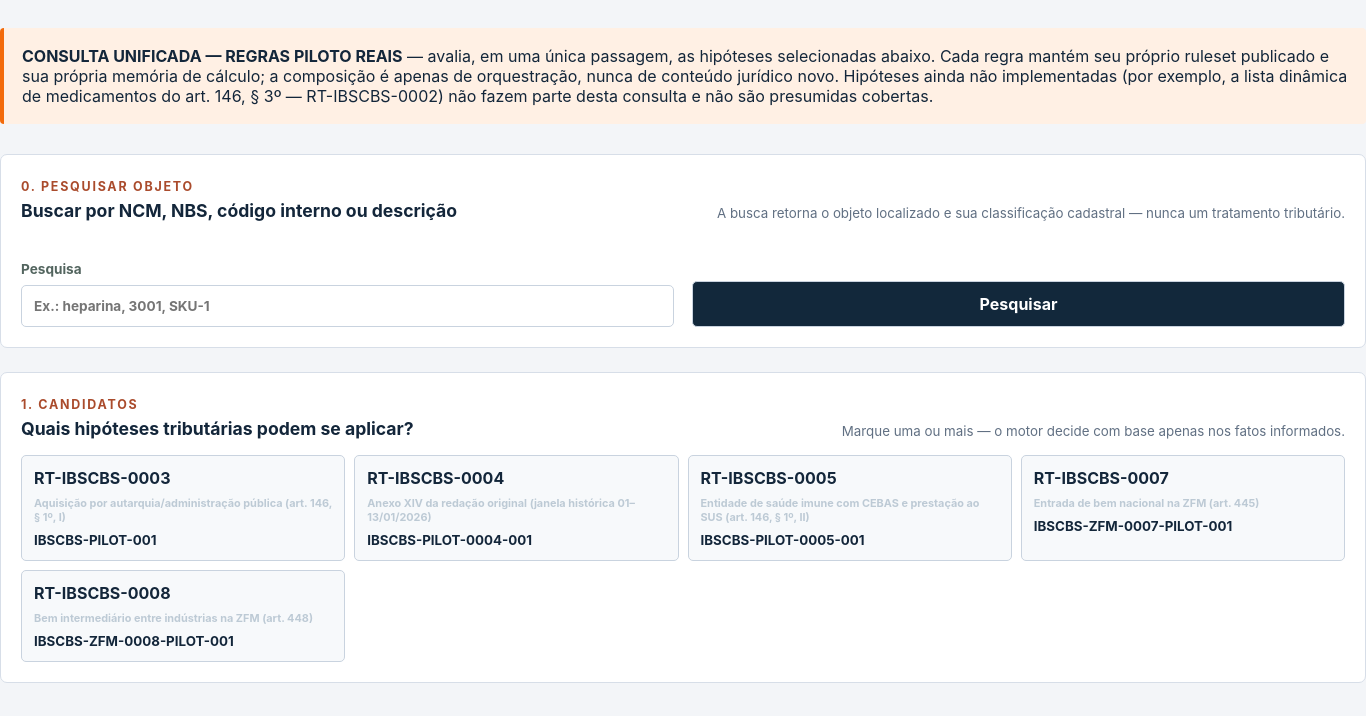
Test case: UnifiedConsultation › shows the Anexo XIV window warning and NCM field only when RT-IBSCBS-0004 is selected
Expected: the text "Hipótese historicamente encerrada" is not shown
Click the button "RT-IBSCBS-0004" at (516, 508), box [354,455,679,561]
(page scrolled)
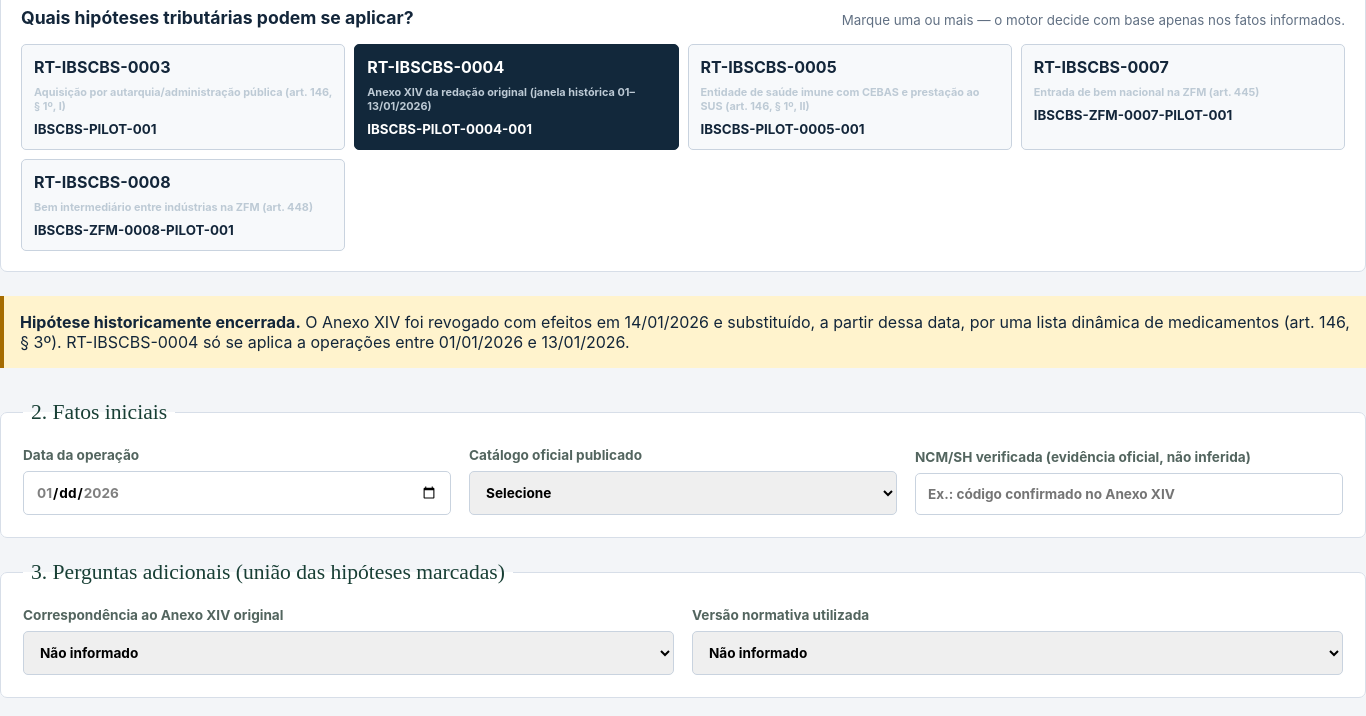
Now the text "Hipótese historicamente encerrada." is shown, box [20,312,301,332]
Now the field labelled "NCM/SH verificada (evidência oficial, não inferida)" is shown, box [915,473,1343,515]
